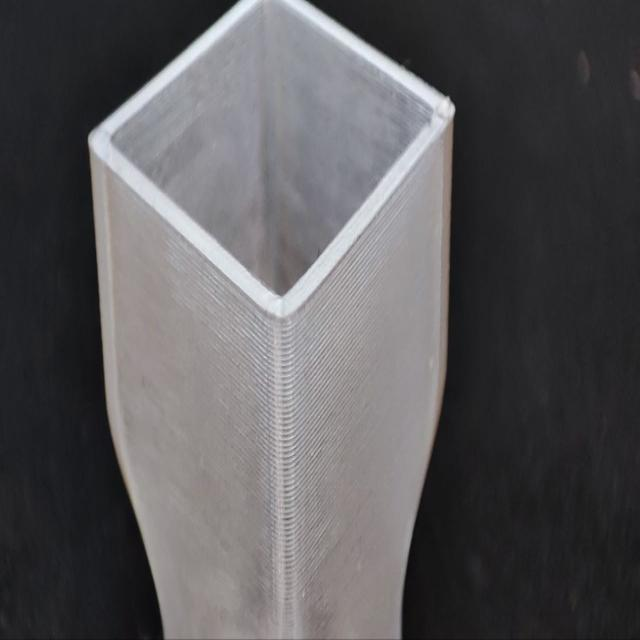Without deffect: (75, 0, 462, 640)
